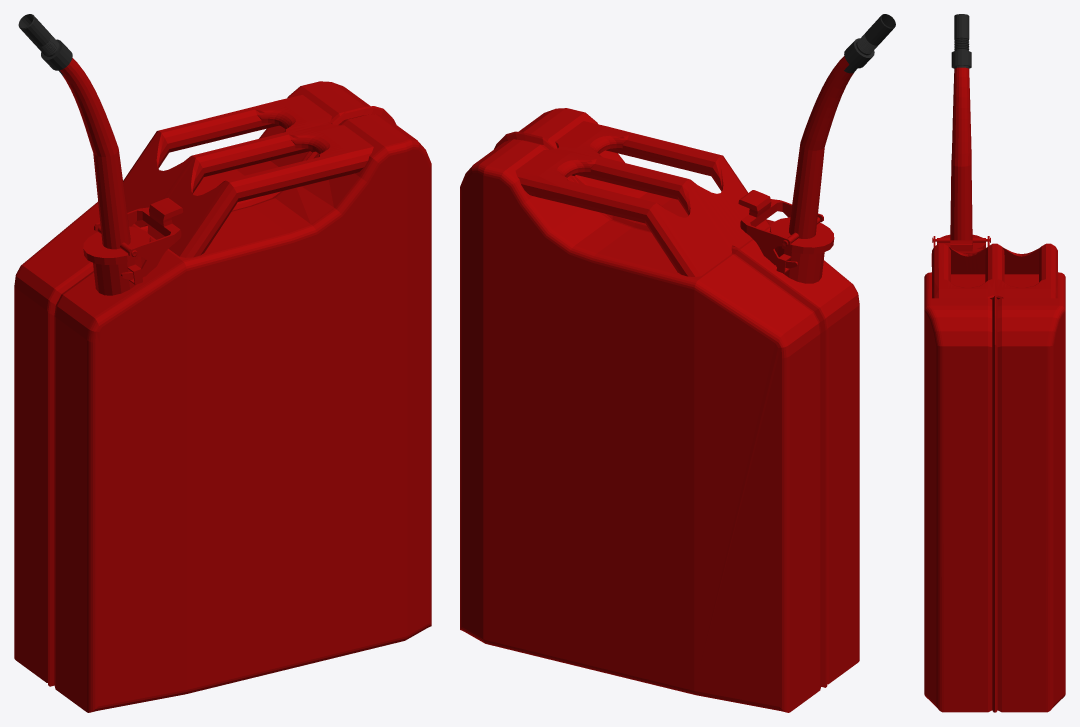
Rendered from JerryCan_53.fbx.
3 renders of one model, left to right at view 1: azimuth 30°, elevation 25°; view 2: azimuth 150°, elevation 25°; view 3: azimuth 270°, elevation 25°, orthographic. The views are drawn at different scales.
Visible parts, largest first — view 1: FinalCanGroup1; view 2: FinalCanGroup1; view 3: FinalCanGroup1.
Part boxes in pixels (x1=…): FinalCanGroup1: x1=14, y1=14, x2=431, y2=712; FinalCanGroup1: x1=460, y1=14, x2=895, y2=712; FinalCanGroup1: x1=924, y1=14, x2=1065, y2=712.
Bounding box in the file's own units: 6.62 × 10.97 × 2.56.
